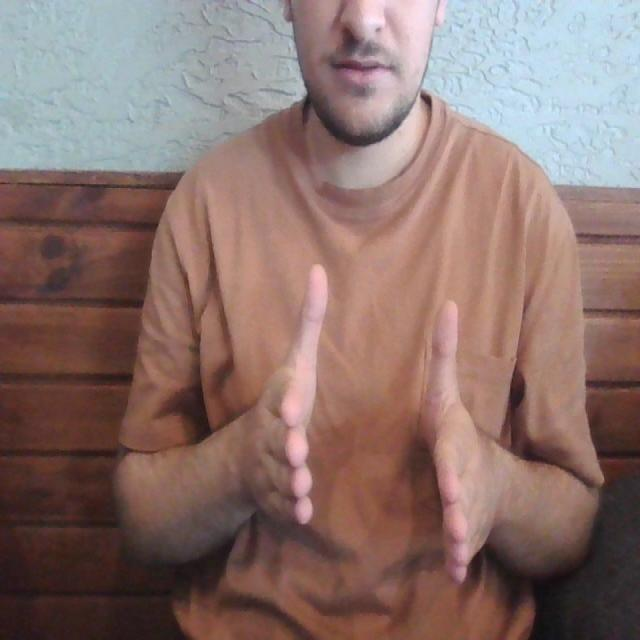Nasil: (238, 248, 502, 595)
